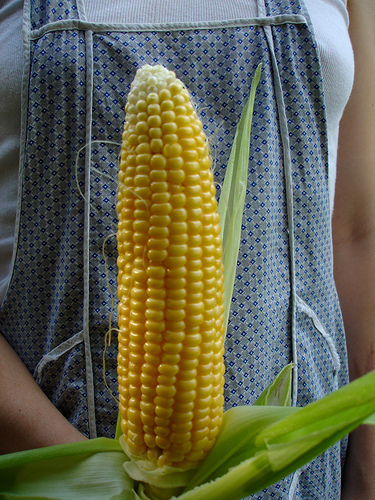corn: (113, 63, 226, 470)
